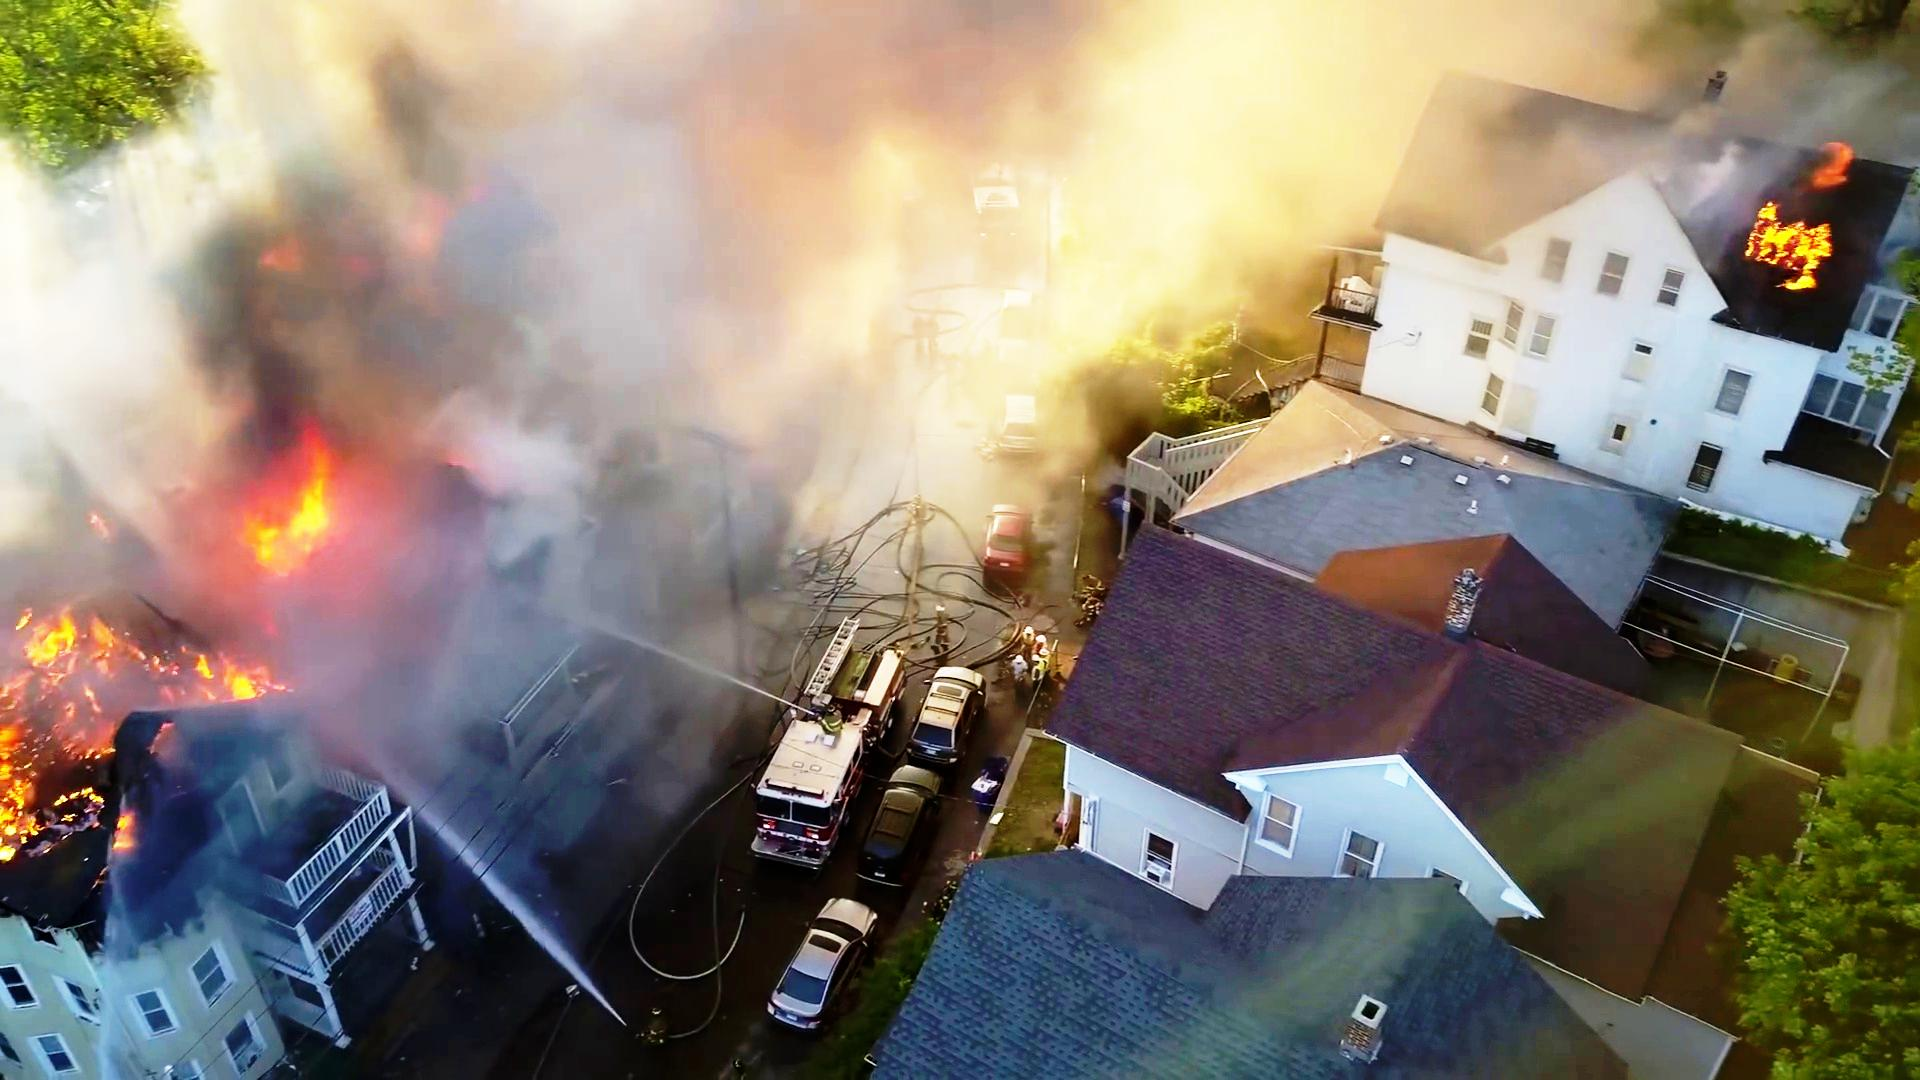fire: (7, 600, 232, 724), (241, 436, 355, 575), (1755, 189, 1821, 311)
smoke: (233, 0, 889, 377)
